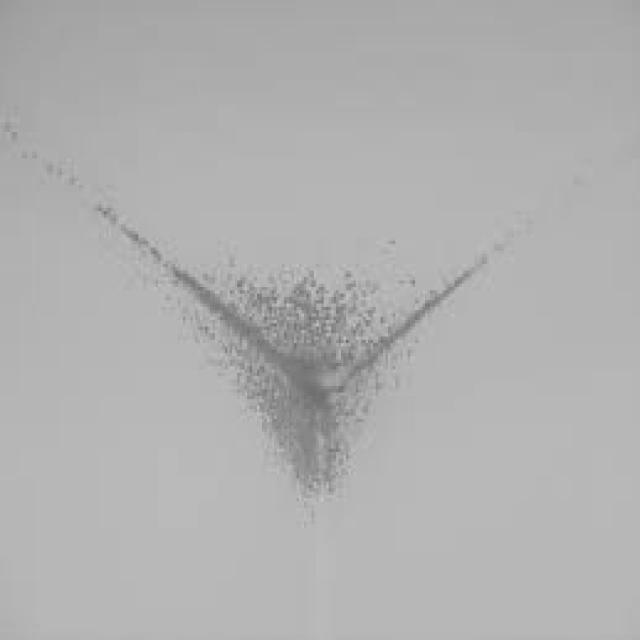stain marks: (150, 248, 497, 498), (0, 112, 147, 248)
